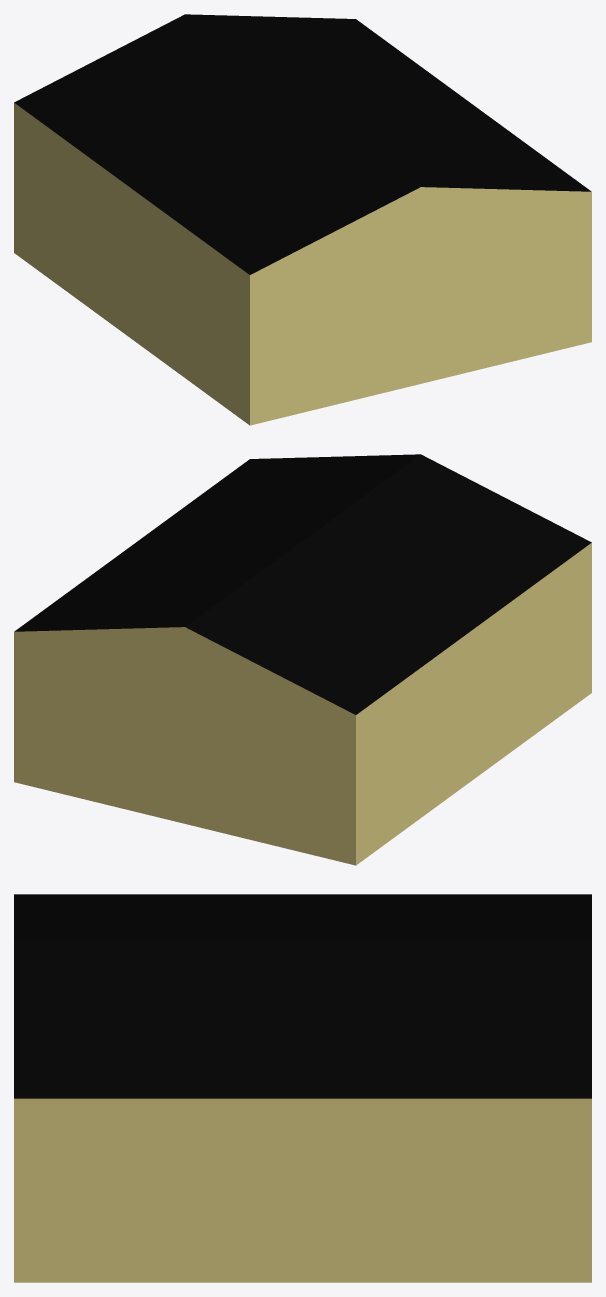
Rendered from house1.fbx.
3 views of the same model, one above another, from view 1: azimuth 30°, elevation 25°; view 2: azimuth 150°, elevation 25°; view 3: azimuth 270°, elevation 25° (orthographic). The views are drawn at different scales.
Parts seen in each view (by area): view 1: Cube.002; view 2: Cube.002; view 3: Cube.002.
Boxes of the visible parts, box(x1,y1,x2,y2) form: Cube.002: box(14, 14, 591, 425); Cube.002: box(14, 454, 591, 865); Cube.002: box(14, 894, 591, 1282).
Bounding box in the file's own units: 189 × 104 × 226.
